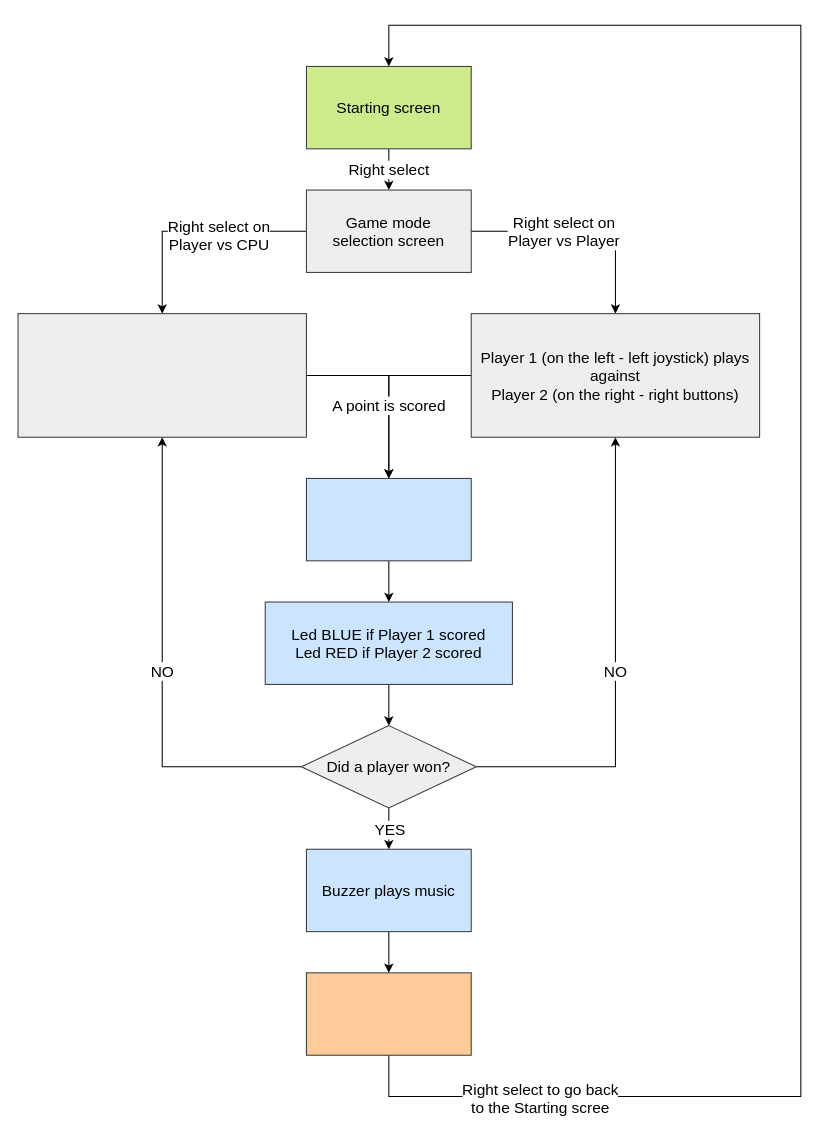
This 827x1134 diagram has some shape labels left out. Each missing label, with the box of its shape:
Player 1 (on the left - left joystick) plays against the CPU: (17, 313, 306, 437)
Show end screen: (305, 972, 471, 1055)
Show points of each player: (305, 477, 471, 561)
